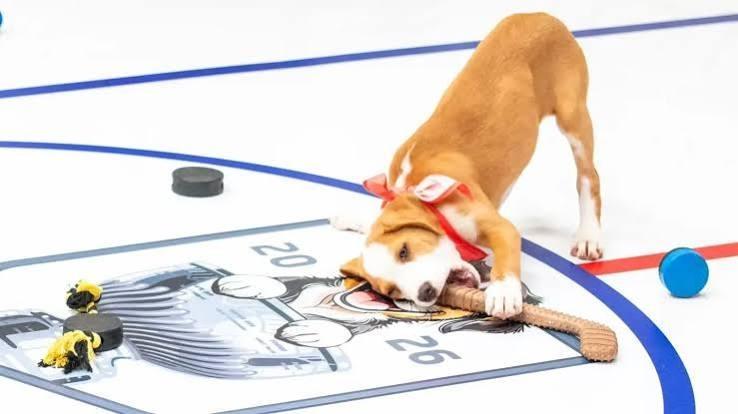puppy-dog: (331, 11, 605, 319)
